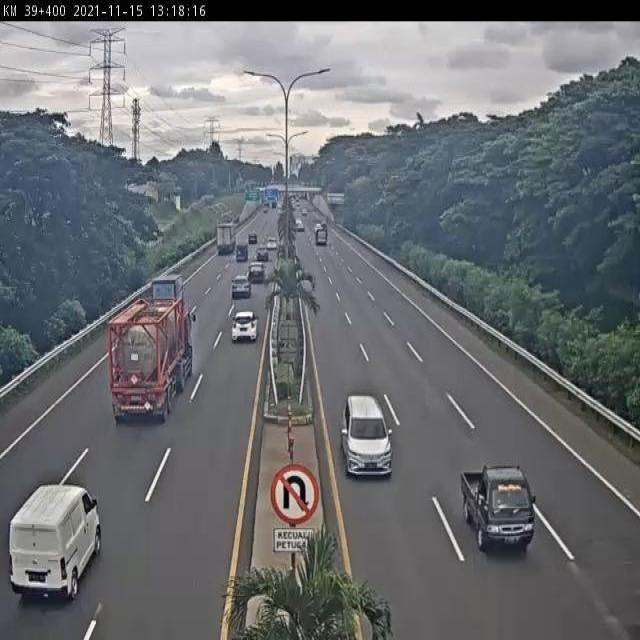Car: (458, 456, 537, 560), (341, 397, 402, 480), (231, 310, 259, 342), (231, 274, 251, 298), (248, 261, 265, 283), (236, 243, 248, 262), (257, 246, 269, 262), (295, 219, 304, 231), (285, 195, 294, 206), (248, 233, 257, 244), (309, 194, 316, 204), (302, 193, 308, 201), (302, 209, 308, 216), (263, 206, 269, 213)
Truck: (104, 289, 194, 433), (216, 222, 236, 256)
Van: (6, 473, 110, 595)
